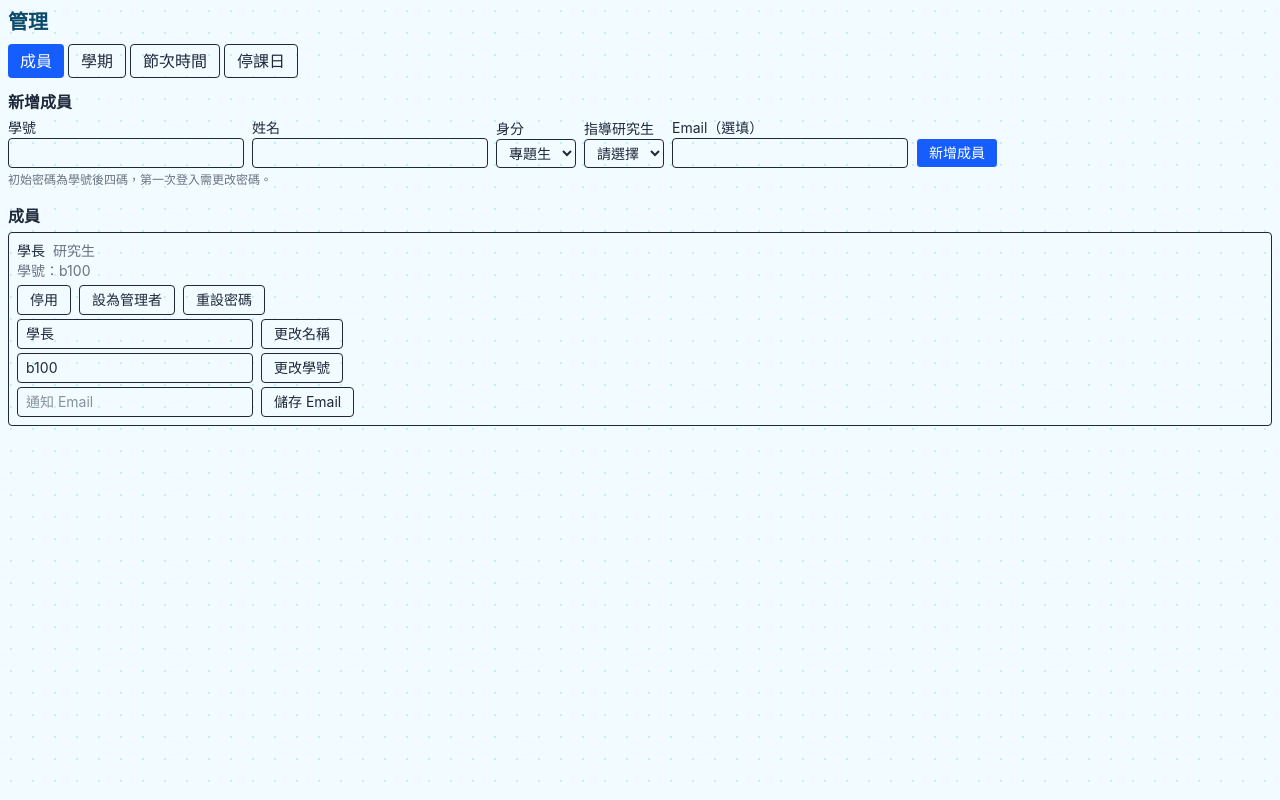
AdminPage period ordering (午休 is period 8, between 第4節 and 第5節) › validates overlap in time order, not period-number order
This screenshot has width=1280, height=800.
Click the tab "節次時間" at (175, 61), box [130,44,220,78]
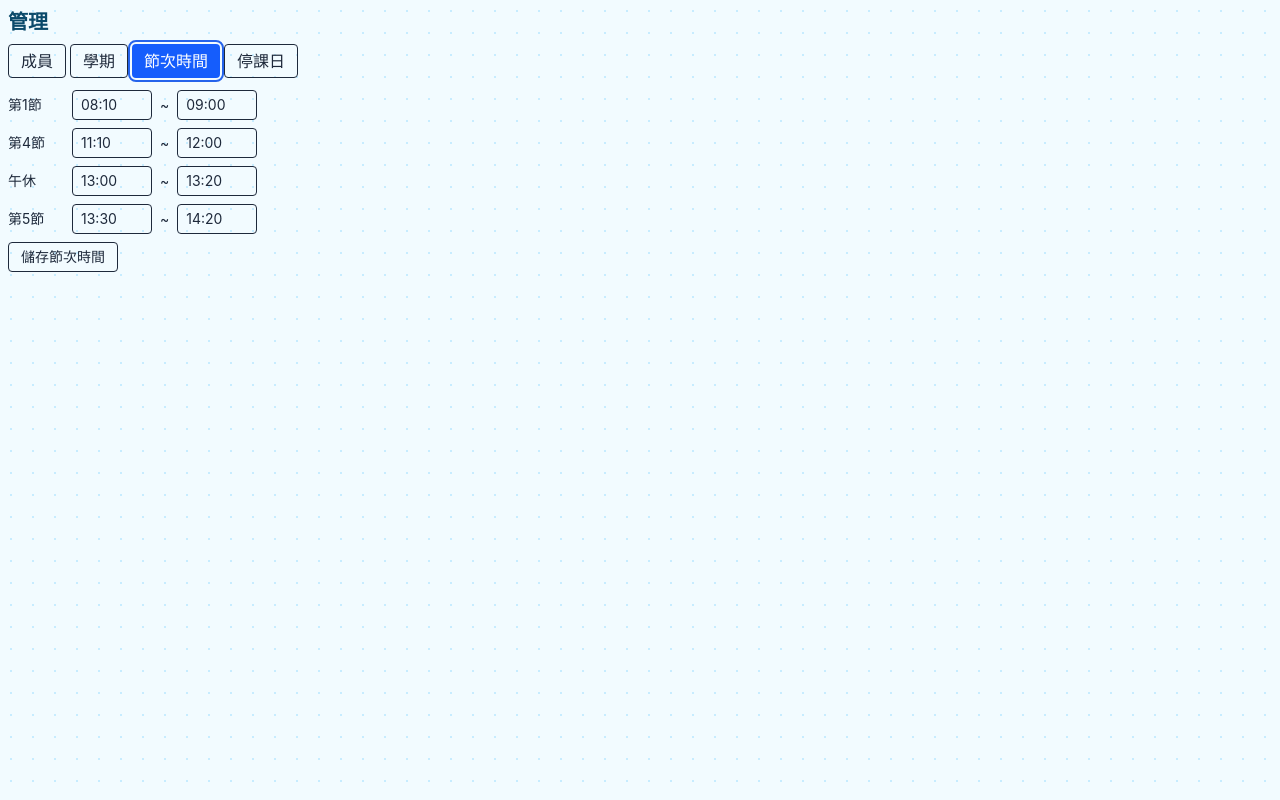
Replace the text in the field named "第5節開始" with "13:10" at (112, 219), box [72,204,152,234]
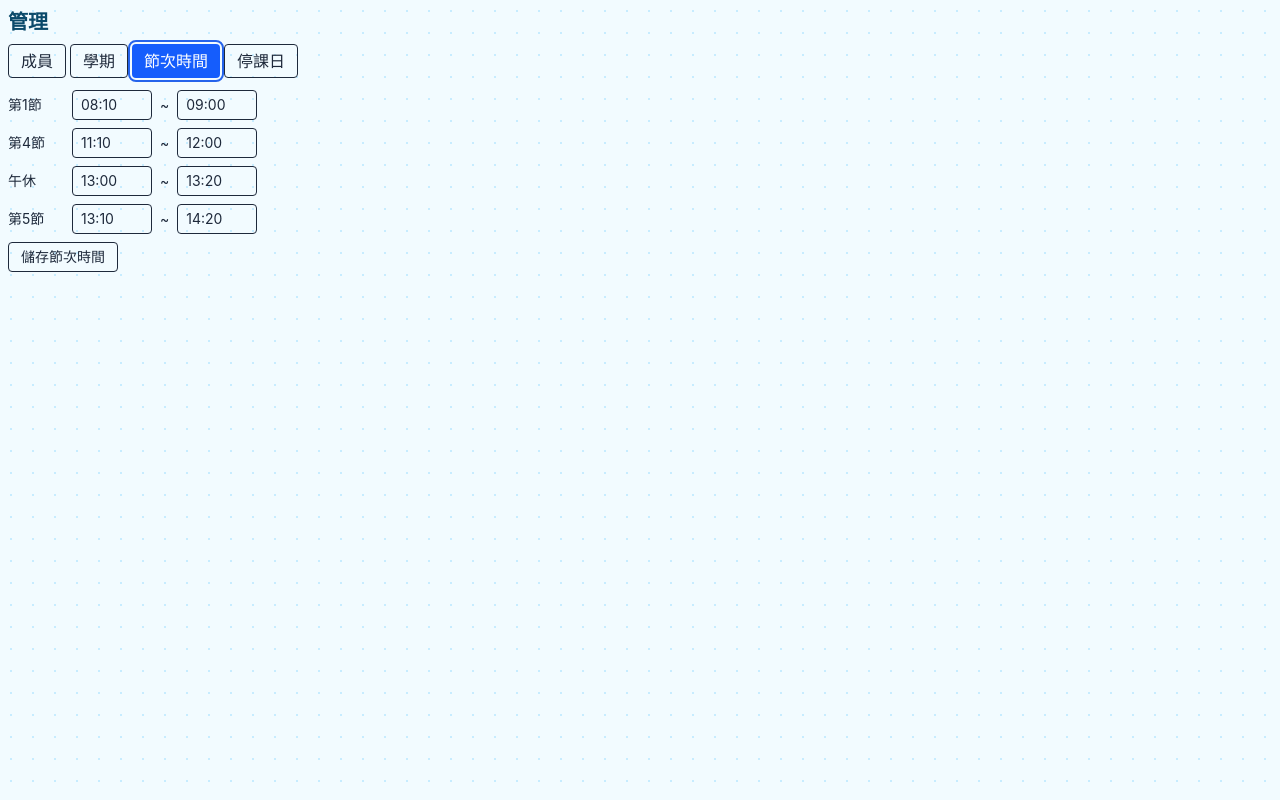
Click the button "儲存節次時間" at (63, 257), box [8,242,118,272]
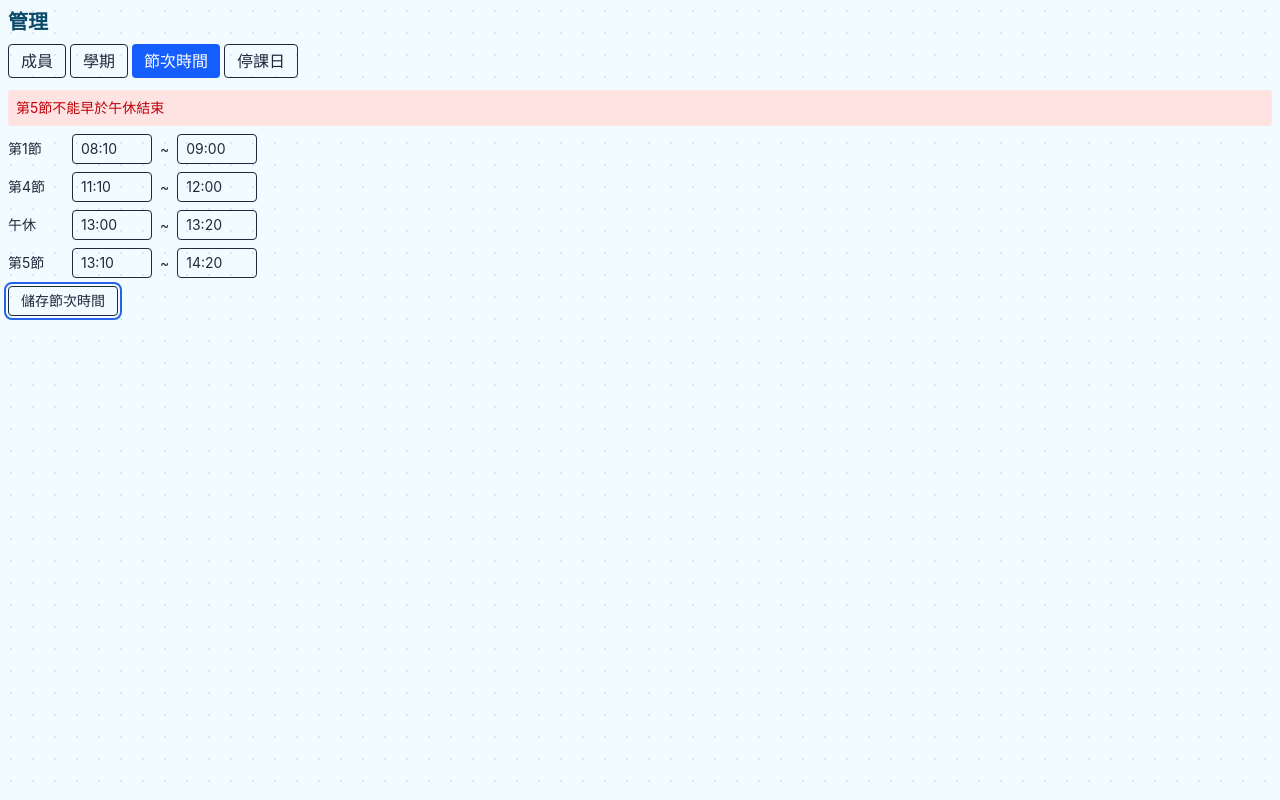
Check: the message reads "第5節不能早於午休結束", box [16,99,164,116]
